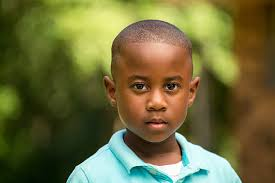person: (102, 19, 201, 146)
